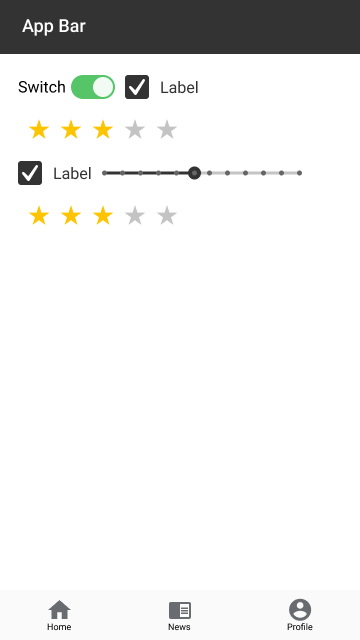checkBox: (124, 74, 201, 100), (17, 160, 93, 186)
navigationButton: (1, 595, 360, 639)
ratingBar: (24, 120, 178, 143), (28, 205, 180, 226)
slider: (98, 165, 307, 181)
switch: (15, 75, 114, 98)
toolbar: (1, 1, 360, 55)
